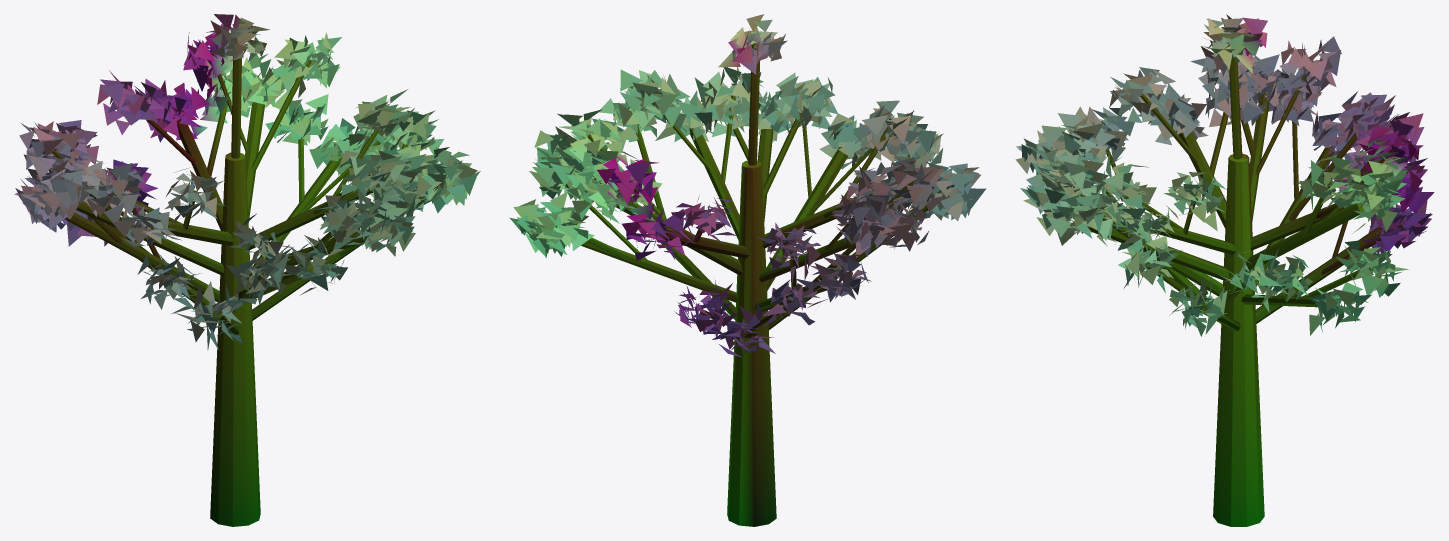
File: ecological_broadleaf_mature_01.glb
3 views of the same model, side by side, from view 1: azimuth 30°, elevation 25°; view 2: azimuth 150°, elevation 25°; view 3: azimuth 270°, elevation 25° (orthographic). The views are drawn at different scales.
Parts seen in each view (by area): view 1: ecological_broadleaf_mature_01; view 2: ecological_broadleaf_mature_01; view 3: ecological_broadleaf_mature_01.
Part boxes in pixels (x1,y1,x2,y2): ecological_broadleaf_mature_01: [14, 14, 480, 526]; ecological_broadleaf_mature_01: [509, 14, 986, 526]; ecological_broadleaf_mature_01: [1015, 14, 1434, 526].
Size of the model in its own units: 20.76 by 24.29 by 18.46.
